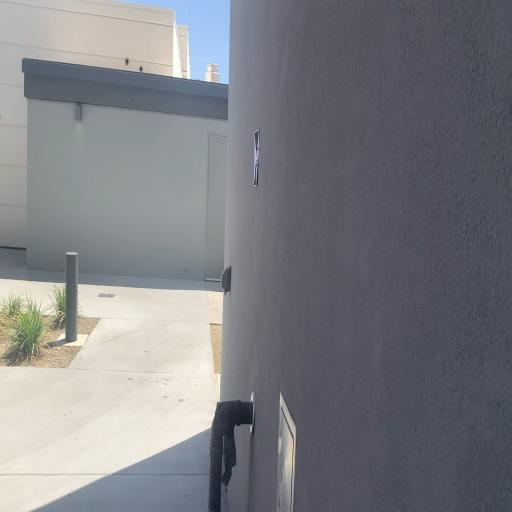target3: (252, 128, 260, 188)
